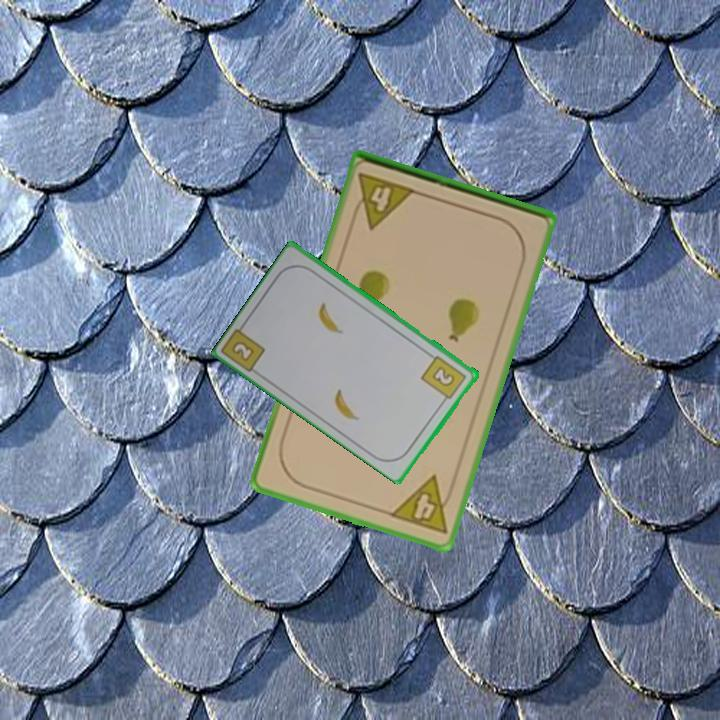2b: (418, 352, 470, 406), (228, 337, 258, 365)
4p: (386, 472, 459, 538), (347, 169, 419, 232)
